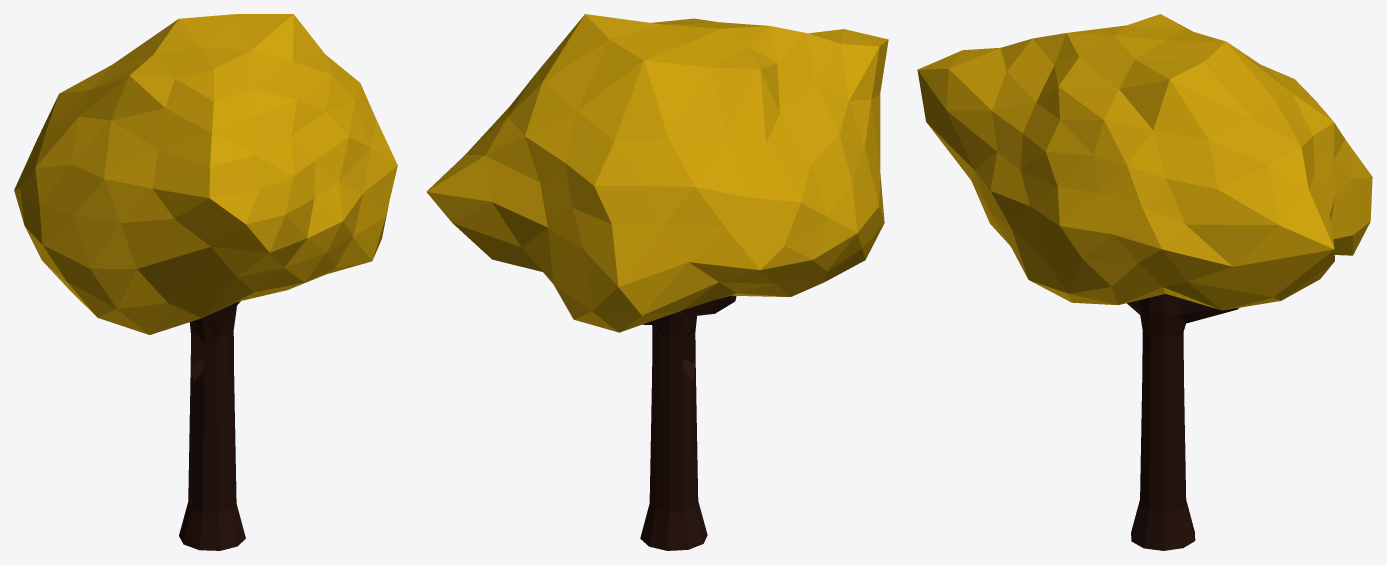
File: t3-yellow.obj
The picture shows the model from 3 angles, left to right: view 1: azimuth 30°, elevation 25°; view 2: azimuth 150°, elevation 25°; view 3: azimuth 270°, elevation 25°; orthographic projection.
Visible parts, largest first — view 1: t3-yellow_Cylinder.026; view 2: t3-yellow_Cylinder.026; view 3: t3-yellow_Cylinder.026.
Part boxes in pixels (<box>): t3-yellow_Cylinder.026: <box>14,14,397,550</box>; t3-yellow_Cylinder.026: <box>426,14,888,550</box>; t3-yellow_Cylinder.026: <box>917,14,1372,550</box>.
Bounding box in the file's own units: 6.51 × 9.23 × 7.64.
